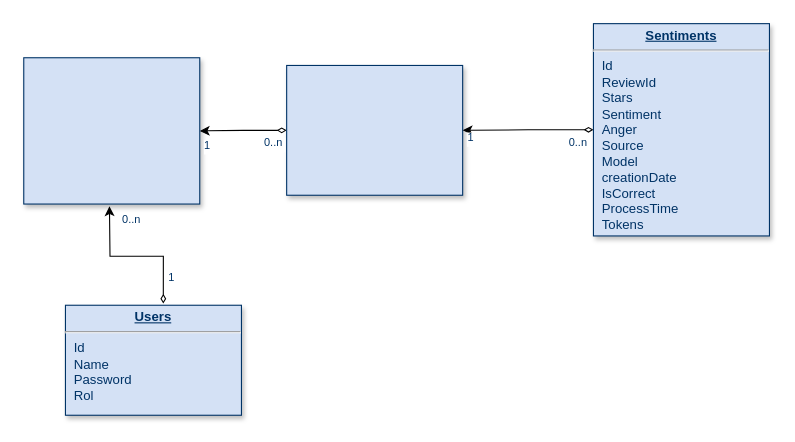
The diagram is 795 pixels wide and 442 high, and some of its shapes have lost their labels. The centre of each missing label's shape, as x and y in pixels:
Datasets Id Name Type Config Status Date Owner: the point at 112,132
Reviews Id DatasetId ReviewText ReviewTime: the point at 375,131
